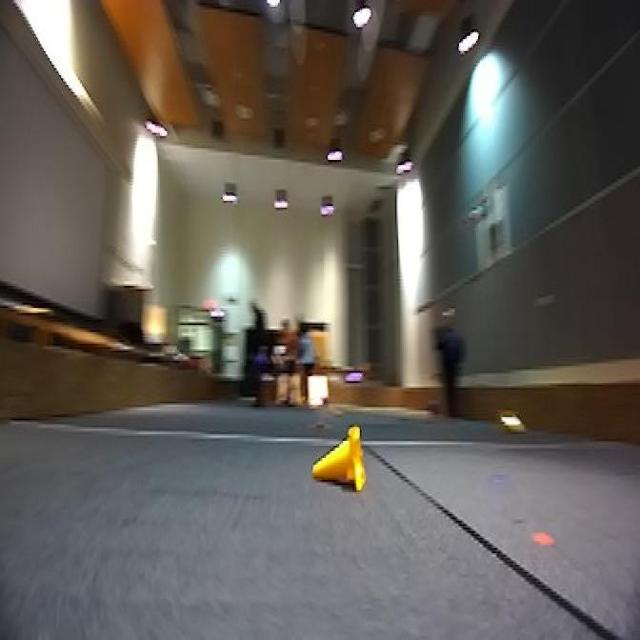frc_cone: (308, 424, 366, 494)
